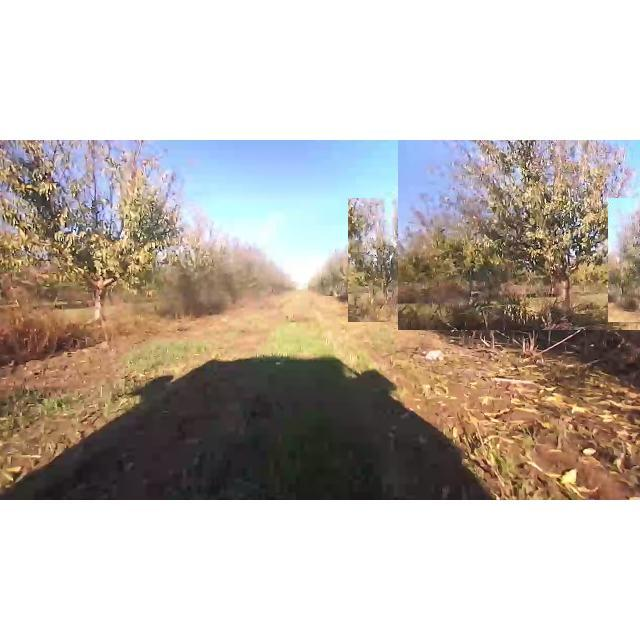direk: (398, 140, 640, 330), (0, 142, 212, 348), (348, 198, 430, 322), (328, 242, 368, 300)
